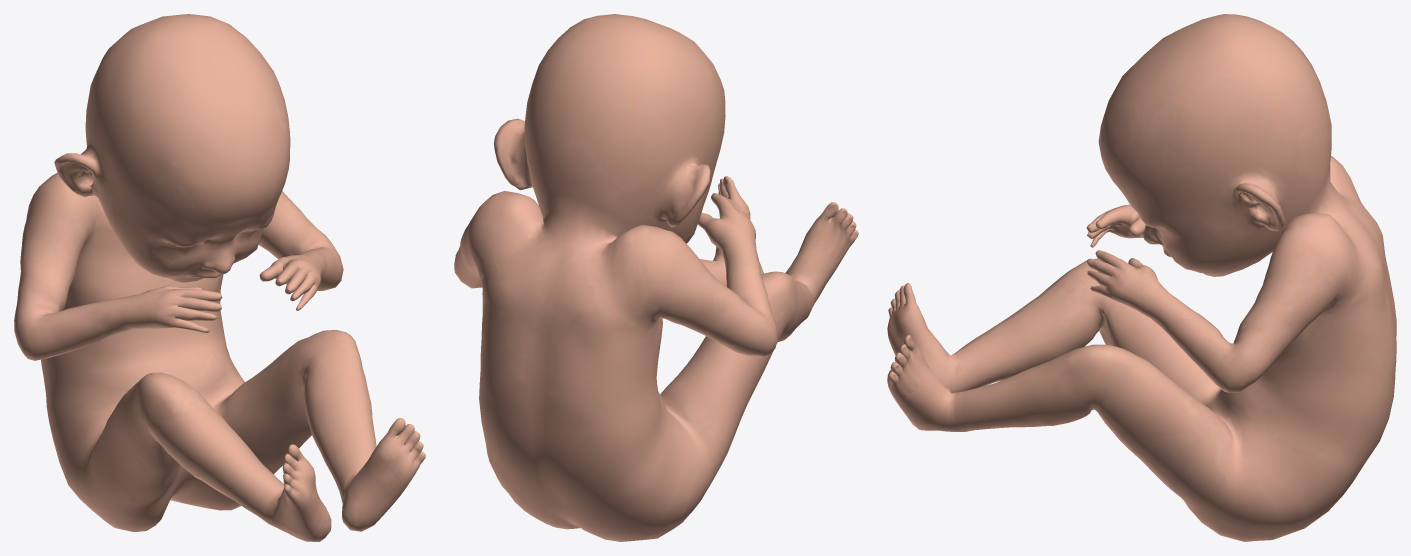
3 views of the same model, side by side, from view 1: azimuth 30°, elevation 25°; view 2: azimuth 150°, elevation 25°; view 3: azimuth 270°, elevation 25° (orthographic).
Parts seen in each view (by area): view 1: Baby; view 2: Baby; view 3: Baby.
Part boxes in pixels (x1=…): Baby: x1=14, y1=14, x2=425, y2=541; Baby: x1=454, y1=14, x2=858, y2=541; Baby: x1=887, y1=14, x2=1396, y2=541.
Size of the model in its own units: 0.2253 by 0.338 by 0.3151.
Materials: 1 (1 with a texture image).
